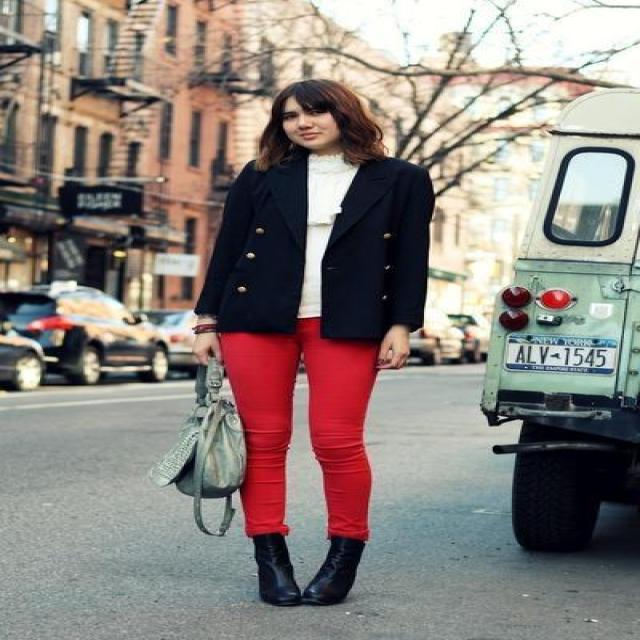bag: (146, 371, 244, 536)
jacket: (182, 146, 440, 345)
pants: (219, 320, 403, 524)
shirt: (298, 154, 357, 316)
shoe: (245, 514, 368, 606)
